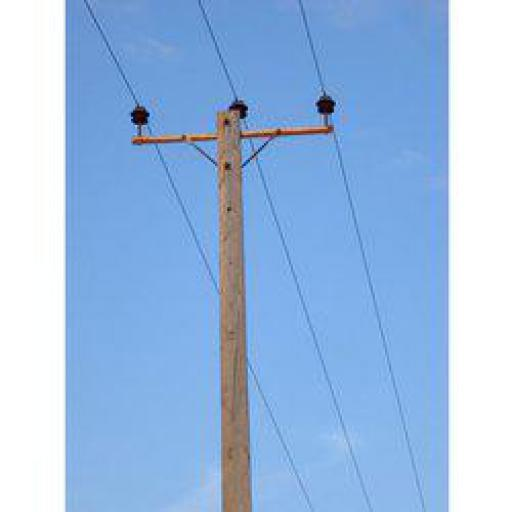mono_7: (131, 96, 340, 510)
